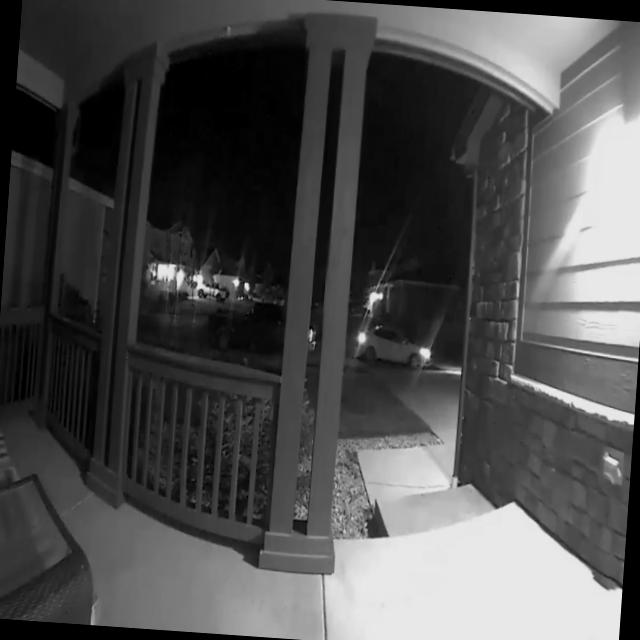car: (348, 296, 448, 382), (208, 288, 322, 352), (188, 268, 231, 314)
